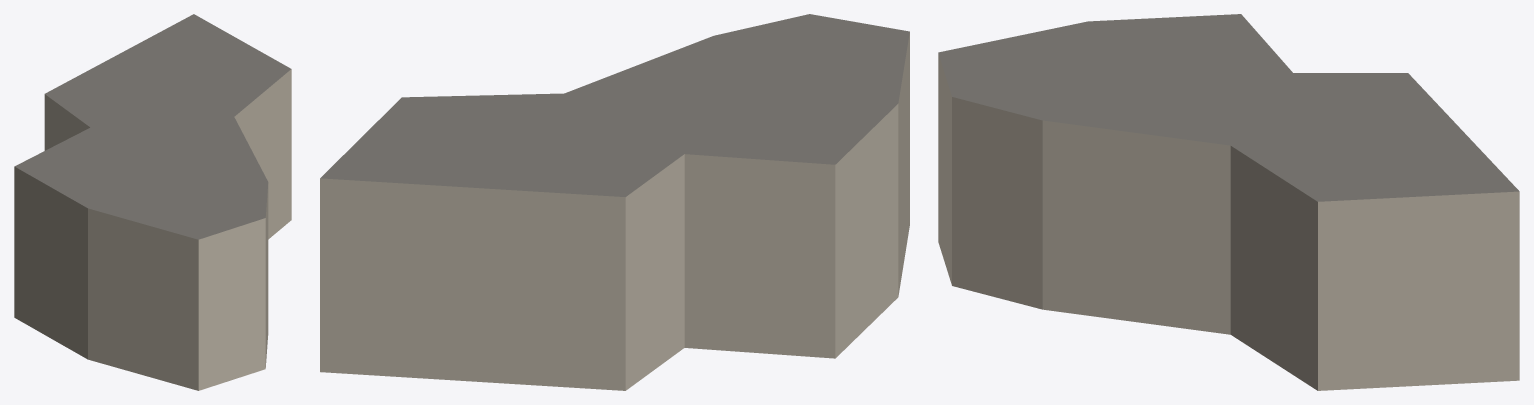
3 views of the same model, side by side, from view 1: azimuth 30°, elevation 25°; view 2: azimuth 150°, elevation 25°; view 3: azimuth 270°, elevation 25° (orthographic). The views are drawn at different scales.
Parts seen in each view (by area): view 1: HP-w1287260538; view 2: HP-w1287260538; view 3: HP-w1287260538.
Boxes of the visible parts, x1,y1,x2,y2 form: HP-w1287260538: (14, 14, 291, 390); HP-w1287260538: (320, 14, 909, 390); HP-w1287260538: (938, 14, 1519, 390).
Bounding box in the file's own units: 38.33 × 18 × 50.16.
